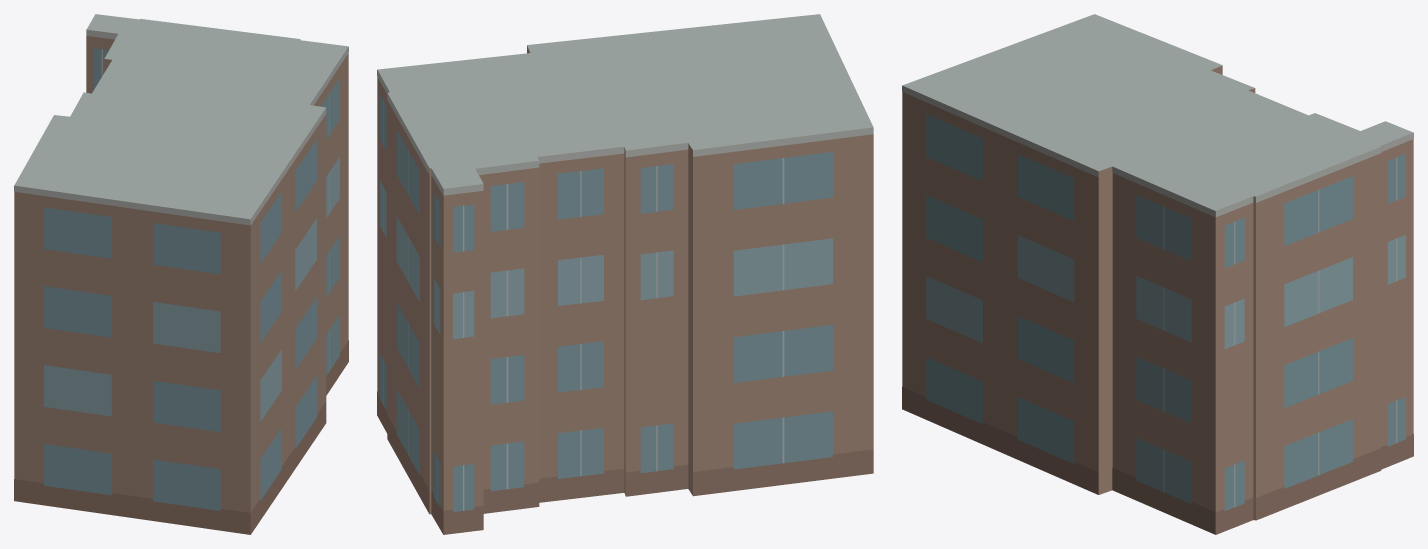
Rendered from survey-upis-32708223.glb.
3 renders of one model, left to right at view 1: azimuth 30°, elevation 25°; view 2: azimuth 150°, elevation 25°; view 3: azimuth 270°, elevation 25°, orthographic. The views are drawn at different scales.
Visible parts, largest first — view 1: survey-upis-32708223.tmp; view 2: survey-upis-32708223.tmp; view 3: survey-upis-32708223.tmp.
Part boxes in pixels (bbox=[...]): survey-upis-32708223.tmp: bbox=[14, 14, 348, 534]; survey-upis-32708223.tmp: bbox=[377, 14, 873, 534]; survey-upis-32708223.tmp: bbox=[902, 14, 1413, 534].
Bounding box in the file's own units: 16.33 × 12.5 × 17.91.
